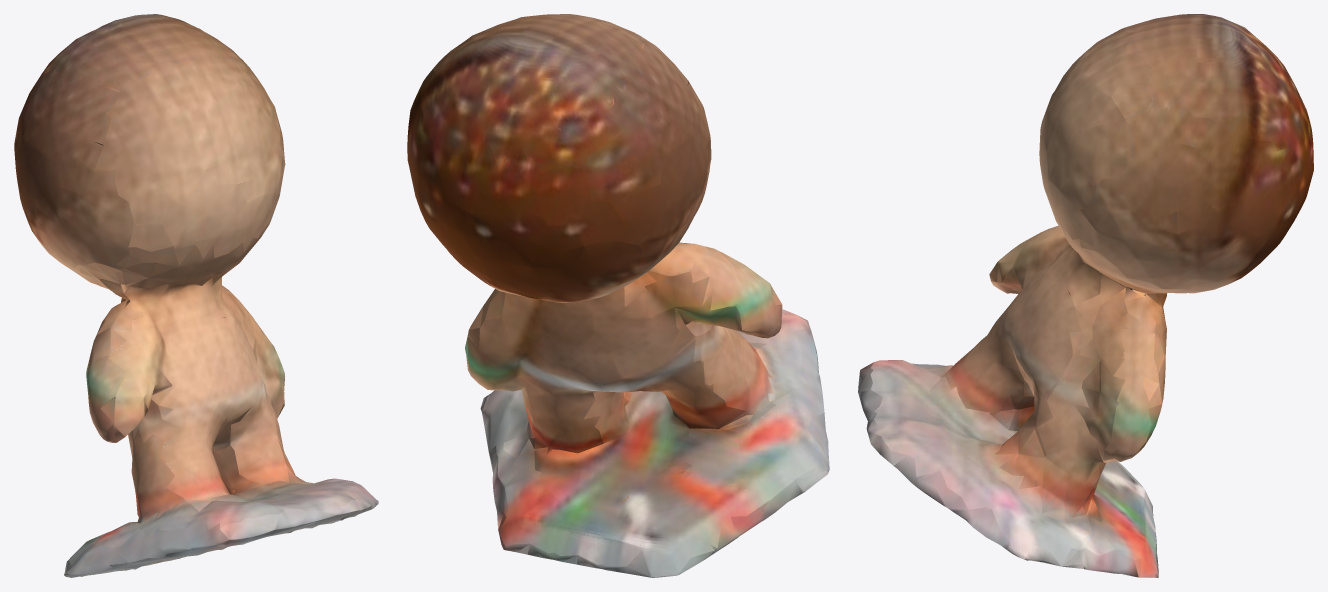
3 views of the same model, side by side, from view 1: azimuth 30°, elevation 25°; view 2: azimuth 150°, elevation 25°; view 3: azimuth 270°, elevation 25° (orthographic). The views are drawn at different scales.
Parts seen in each view (by area): view 1: world; view 2: world; view 3: world.
Boxes of the visible parts, bbox=[...] form: world: bbox=[14, 14, 378, 577]; world: bbox=[407, 14, 829, 577]; world: bbox=[858, 14, 1313, 577].
Bounding box in the file's own units: 0.3114 × 0.4795 × 0.3813.
1 material, 1 textured.
